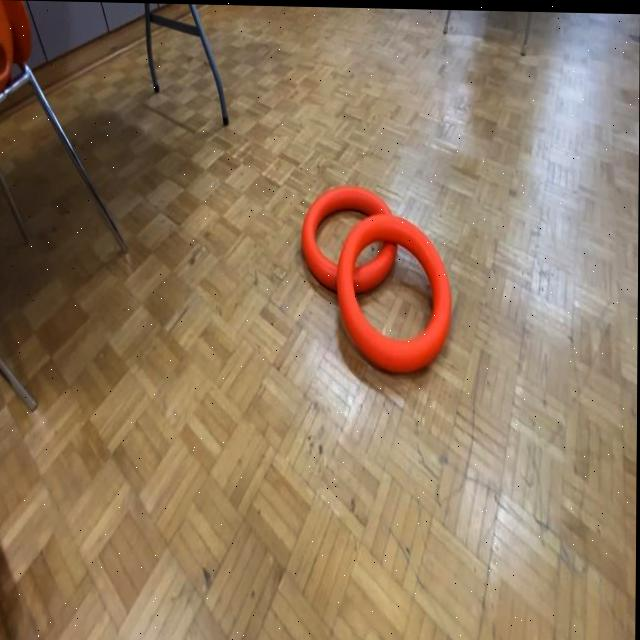note: (336, 211, 453, 376), (301, 182, 398, 293)
